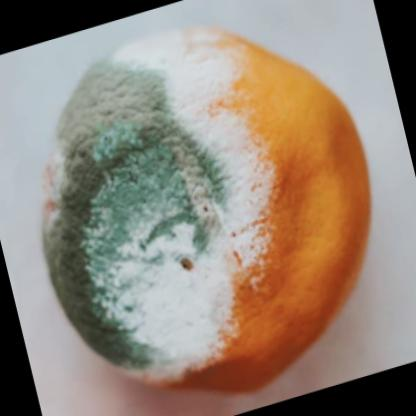rotten: (46, 25, 372, 389)
